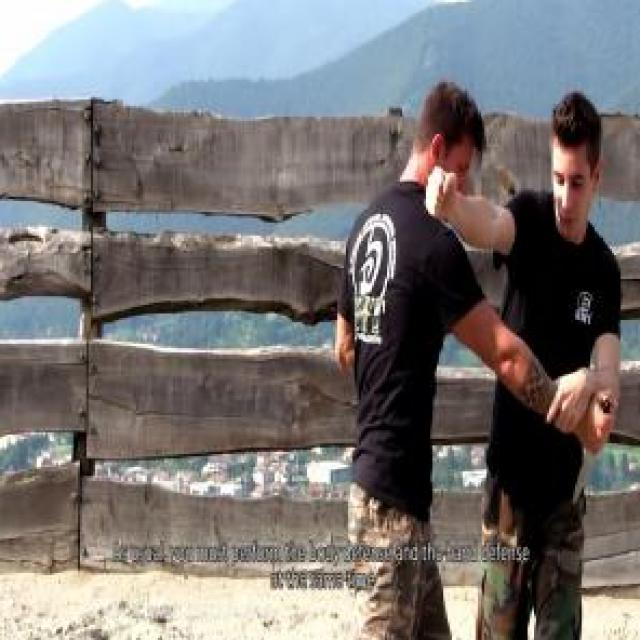knife: (569, 387, 618, 508)
